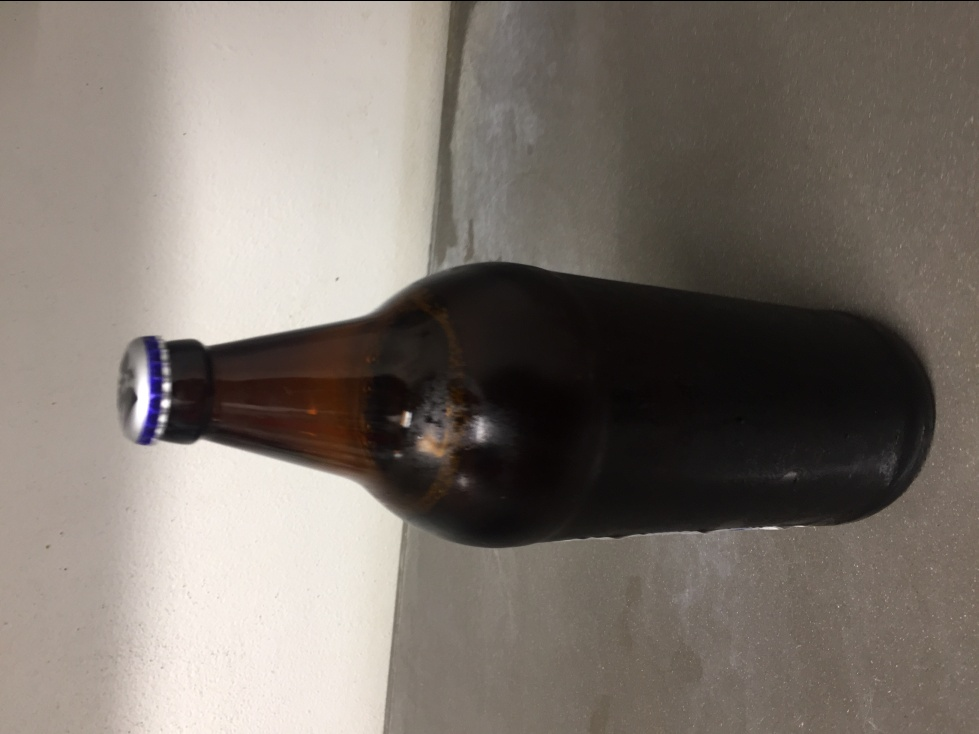tecateC: (114, 262, 936, 534)
